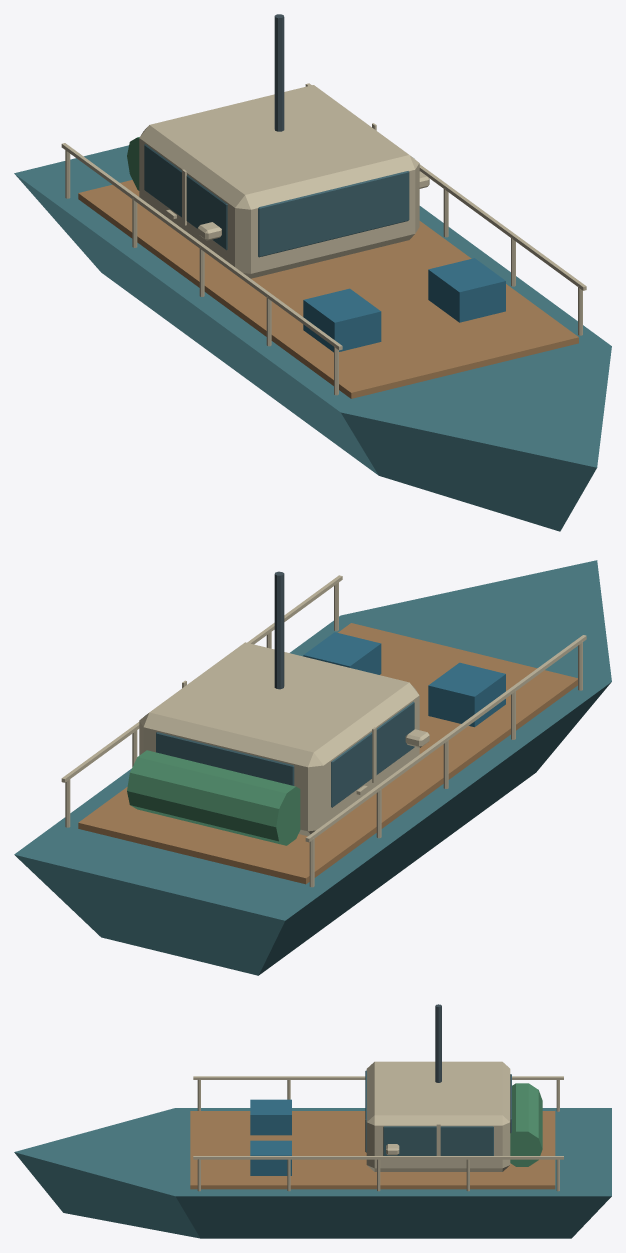
The model's file is vessel_trawler.glb.
The picture shows the model from 3 angles, top to bottom: view 1: azimuth 30°, elevation 25°; view 2: azimuth 150°, elevation 25°; view 3: azimuth 270°, elevation 25°; orthographic projection. The views are drawn at different scales.
Parts seen in each view (by area): view 1: vessel_trawler; view 2: vessel_trawler; view 3: vessel_trawler.
Boxes of the visible parts, bbox=[...] form: vessel_trawler: bbox=[14, 14, 611, 531]; vessel_trawler: bbox=[14, 560, 611, 975]; vessel_trawler: bbox=[14, 1004, 611, 1238].
Size of the model in its own units: 3.5 by 3.82 by 10.
